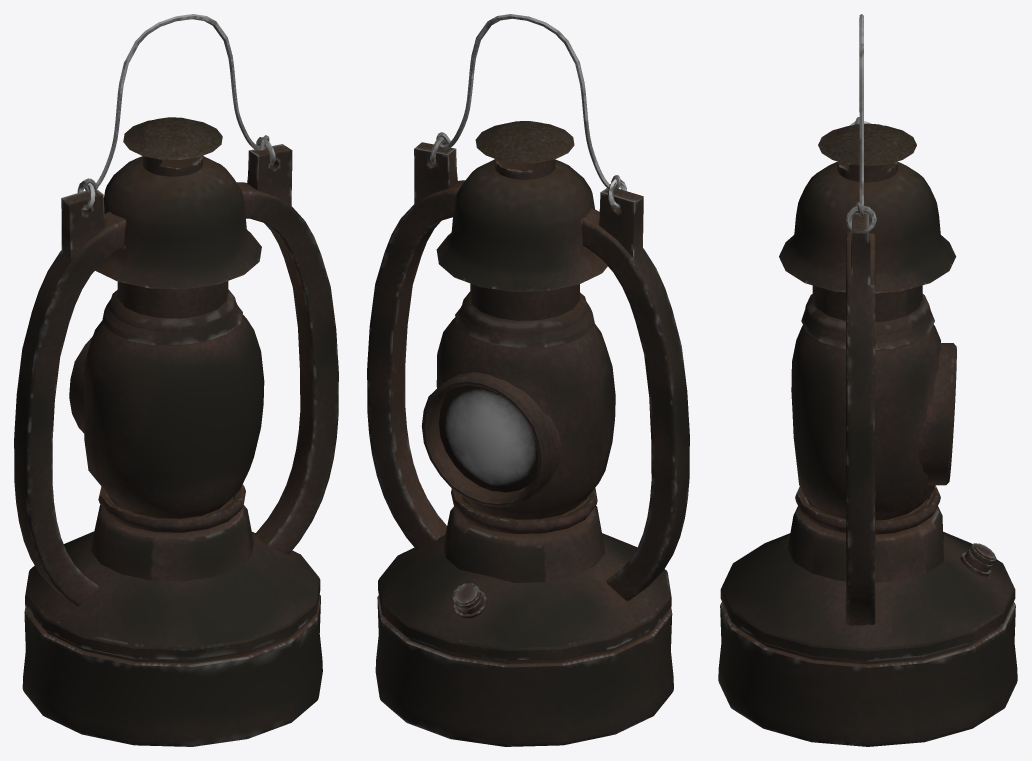
Rendered from Lamparina(Direcional).fbx.
The picture shows the model from 3 angles, left to right: view 1: azimuth 30°, elevation 25°; view 2: azimuth 150°, elevation 25°; view 3: azimuth 270°, elevation 25°; orthographic projection.
Parts seen in each view (by area): view 1: Lamparina; view 2: Lamparina, Vidro; view 3: Lamparina.
Boxes of the visible parts, x1=… form: Lamparina: x1=14, y1=14, x2=338, y2=746; Lamparina: x1=367, y1=14, x2=689, y2=746; Vidro: x1=439, y1=385, x2=538, y2=492; Lamparina: x1=718, y1=14, x2=1017, y2=746.
Bounding box in the file's own units: 28.74 × 58.91 × 24.13.
2 materials, 2 textured.
